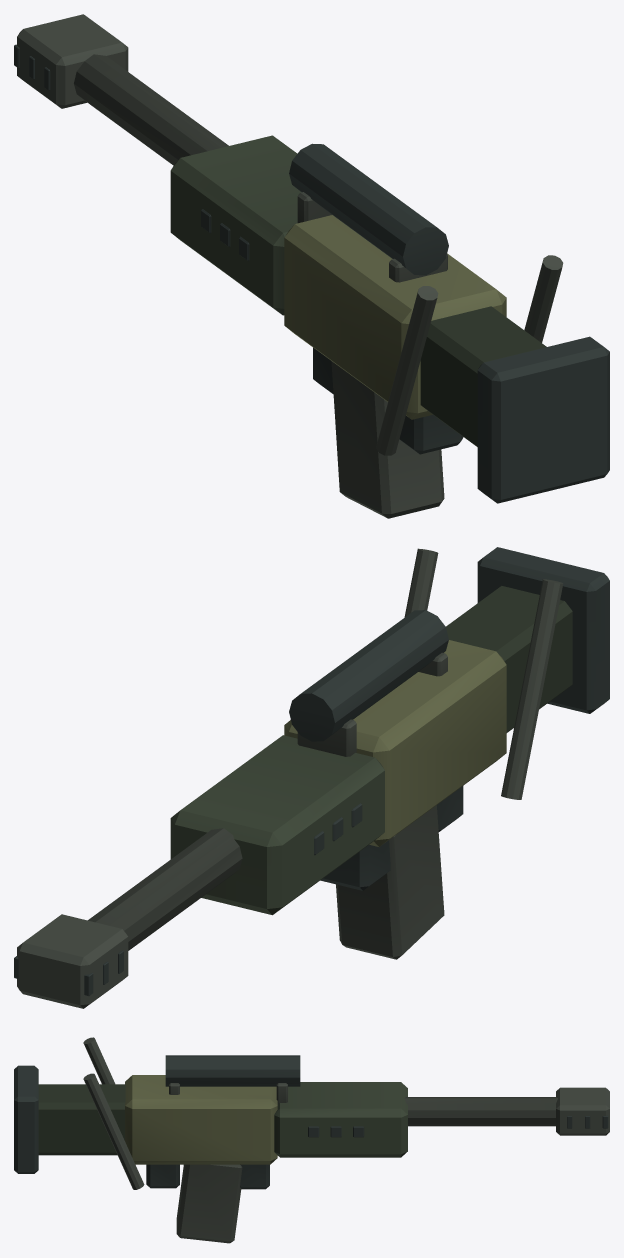
Rendered from arm_marksman_right.glb.
The picture shows the model from 3 angles, top to bottom: view 1: azimuth 30°, elevation 25°; view 2: azimuth 150°, elevation 25°; view 3: azimuth 270°, elevation 25°; orthographic projection. The views are drawn at different scales.
Parts seen in each view (by area): view 1: BR90_receiver, BR90_butt, BR90_fore_end, Moving_br90_magazine, BR90_scope, BR90_stock, BR90_barrel, BR90_muzzle_brake, Marksman_wrist_rail, Marksman_wrist_rail.001, Trigger_grip; view 2: BR90_fore_end, BR90_receiver, Moving_br90_magazine, BR90_scope, BR90_butt, BR90_stock, BR90_muzzle_brake, BR90_barrel, Marksman_wrist_rail, Support_foregrip, Marksman_wrist_rail.001, Scope_mount.001 (+1 smaller); view 3: BR90_receiver, BR90_fore_end, BR90_stock, Moving_br90_magazine, BR90_barrel, BR90_scope, BR90_butt, BR90_muzzle_brake, Marksman_wrist_rail.001, Trigger_grip, Support_foregrip, Marksman_wrist_rail.
Boxes of the visible parts, bbox=[...] form: BR90_receiver: bbox=[284, 215, 506, 419]; BR90_butt: bbox=[477, 336, 609, 503]; BR90_fore_end: bbox=[170, 135, 301, 315]; Moving_br90_magazine: bbox=[331, 361, 444, 518]; BR90_scope: bbox=[289, 143, 448, 275]; BR90_stock: bbox=[420, 306, 546, 446]; BR90_barrel: bbox=[74, 54, 228, 165]; BR90_muzzle_brake: bbox=[17, 14, 128, 108]; Marksman_wrist_rail: bbox=[376, 286, 438, 455]; Marksman_wrist_rail.001: bbox=[524, 255, 563, 342]; Trigger_grip: bbox=[399, 415, 463, 454]; BR90_fore_end: bbox=[170, 735, 384, 915]; BR90_receiver: bbox=[284, 640, 506, 846]; Moving_br90_magazine: bbox=[336, 805, 444, 959]; BR90_scope: bbox=[289, 610, 448, 741]; BR90_butt: bbox=[477, 547, 609, 713]; BR90_stock: bbox=[446, 586, 572, 732]; BR90_muzzle_brake: bbox=[17, 914, 128, 1008]; BR90_barrel: bbox=[88, 828, 242, 950]; Marksman_wrist_rail: bbox=[501, 579, 563, 799]; Support_foregrip: bbox=[320, 840, 390, 890]; Marksman_wrist_rail.001: bbox=[404, 548, 438, 617]; Scope_mount.001: bbox=[297, 719, 356, 756]; BR90_receiver: bbox=[125, 1075, 277, 1164]; BR90_fore_end: bbox=[274, 1082, 407, 1157]; BR90_stock: bbox=[38, 1084, 125, 1155]; Moving_br90_magazine: bbox=[176, 1164, 242, 1243]; BR90_barrel: bbox=[404, 1097, 557, 1126]; BR90_scope: bbox=[165, 1055, 300, 1086]; BR90_butt: bbox=[14, 1065, 38, 1173]; BR90_muzzle_brake: bbox=[556, 1087, 609, 1135]; Marksman_wrist_rail.001: bbox=[83, 1073, 144, 1189]; Trigger_grip: bbox=[146, 1164, 179, 1188]; Support_foregrip: bbox=[240, 1164, 269, 1189]; Marksman_wrist_rail: bbox=[83, 1037, 115, 1084].
Bounding box in the file's own units: 0.2166 × 0.4413 × 1.33.
